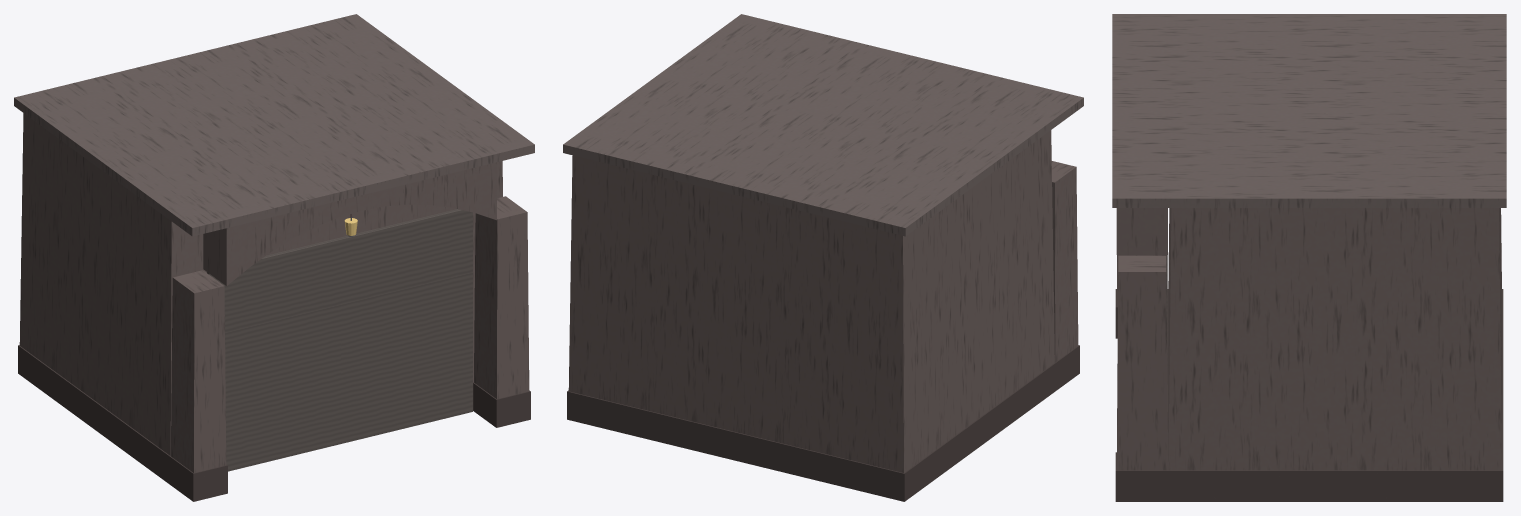
The model's file is SM_Souq_Stall_W5D45H38.fbx.
3 views of the same model, side by side, from view 1: azimuth 30°, elevation 25°; view 2: azimuth 150°, elevation 25°; view 3: azimuth 270°, elevation 25° (orthographic). The views are drawn at different scales.
Parts seen in each view (by area): view 1: SM_Souq_Stall_W5D45H38; view 2: SM_Souq_Stall_W5D45H38; view 3: SM_Souq_Stall_W5D45H38.
Part boxes in pixels (x1,y1,x2,y2): SM_Souq_Stall_W5D45H38: [14, 14, 534, 501]; SM_Souq_Stall_W5D45H38: [563, 14, 1083, 501]; SM_Souq_Stall_W5D45H38: [1112, 14, 1506, 501].
Bounding box in the file's own units: 510 × 392 × 460.
Materials: 6 (6 with a texture image).
